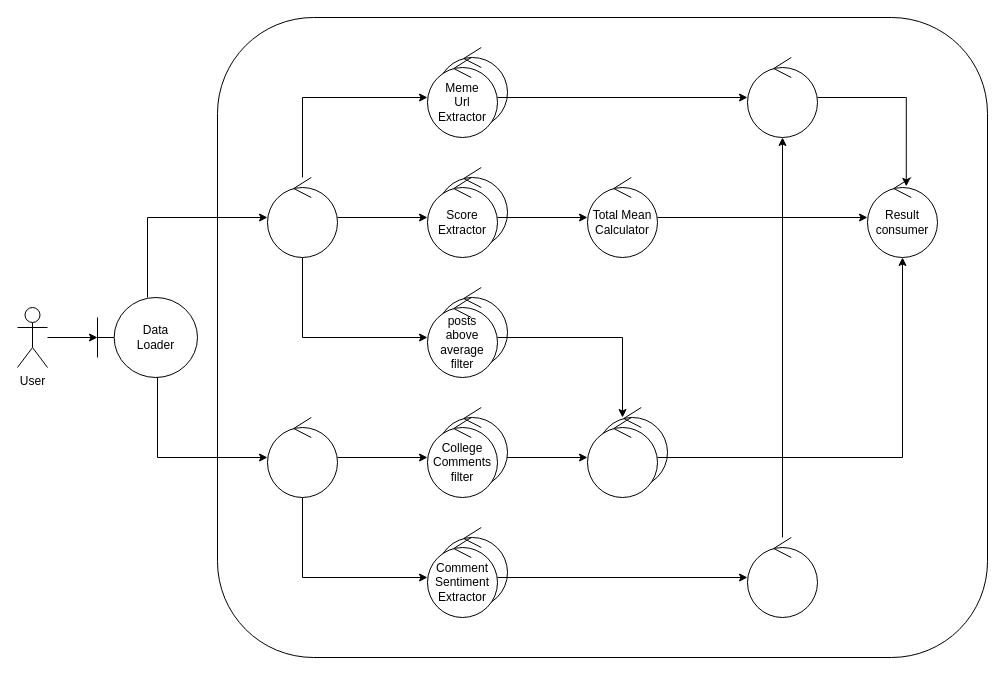
Some shapes in this 1005 by 675 pixel diagram are drawn without their labels. The centre of each missing label's shape, as x and y in pixels:
"Best meme filter" goes at point 782,97.
"College posts filter" goes at point 622,457.
"Comment Producer" goes at point 302,457.
"Post Producer" goes at point 302,217.
"Post sentiment calculator" goes at point 782,577.
